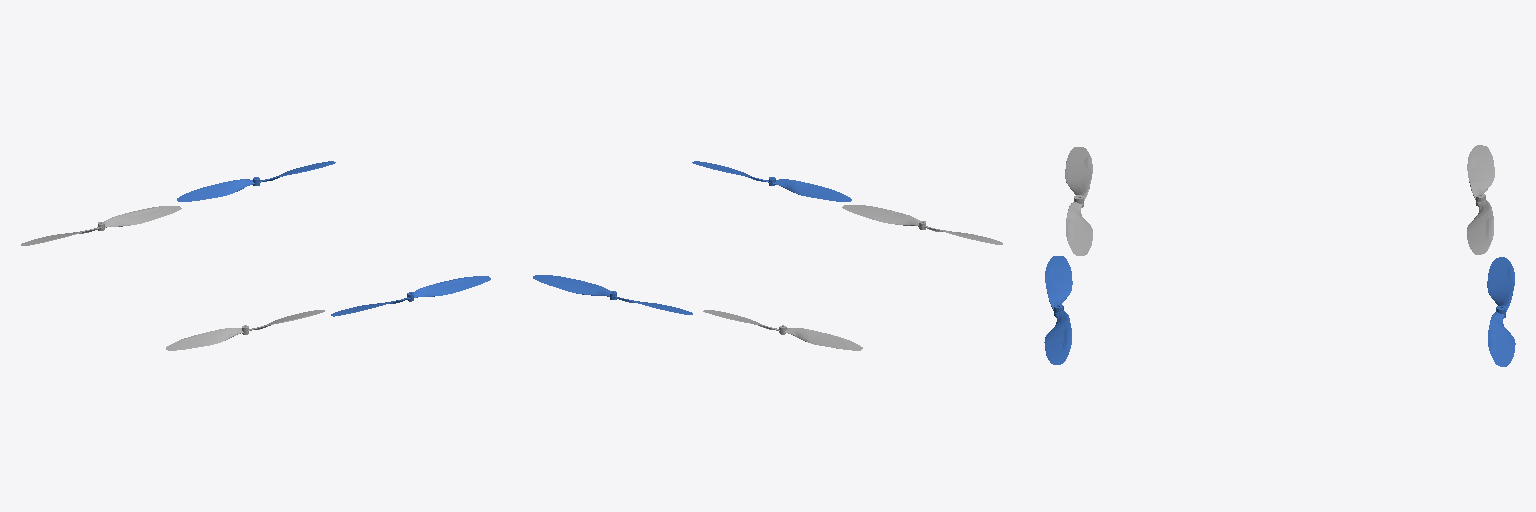
URDF robot description (iris):
<?xml version="1.0" ?>
<robot name="iris">

  <material name="grey">
    <color rgba=".7 .7 .7 1"/>
  </material>

  <material name="green">
    <color rgba=".1 .8 .1 1"/>
  </material>

  <material name="blue">
    <color rgba=".3 .5 .8 1"/>
  </material>

  <material name="red">
    <color rgba=".9 .1 .1 1"/>
  </material>

  <joint name="imu_joint" type="fixed">
    <parent link="base_link"/>
    <child link="imu_link"/>
    <origin xyz="0 0 0" rpy="0 0 0"/>
    <axis xyz="1 0 0"/>
    <limit lower="0.0" upper="0.0" effort="0.0" velocity="0.0"/>
  </joint>
  <joint name="rotor_0_joint" type="revolute">
    <parent link="base_link"/>
    <child link="rotor_0"/>
    <origin xyz="0.13  -0.22   0.023" rpy="0 0 0"/>
    <axis xyz="0 0 1"/>
    <limit lower="-1e+16" upper="1e+16" effort="0.0" velocity="0.0"/>
  </joint>
  <joint name="rotor_1_joint" type="revolute">
    <parent link="base_link"/>
    <child link="rotor_1"/>
    <origin xyz="-0.13   0.2    0.023" rpy="0 0 0"/>
    <axis xyz="0 0 1"/>
    <limit lower="-1e+16" upper="1e+16" effort="0.0" velocity="0.0"/>
  </joint>
  <joint name="rotor_2_joint" type="revolute">
    <parent link="base_link"/>
    <child link="rotor_2"/>
    <origin xyz="0.13  0.22  0.023" rpy="0 0 0"/>
    <axis xyz="0 0 1"/>
    <limit lower="-1e+16" upper="1e+16" effort="0.0" velocity="0.0"/>
  </joint>
  <joint name="rotor_3_joint" type="revolute">
    <parent link="base_link"/>
    <child link="rotor_3"/>
    <origin xyz="-0.13  -0.2    0.023" rpy="0 0 0"/>
    <axis xyz="0 0 1"/>
    <limit lower="-1e+16" upper="1e+16" effort="0.0" velocity="0.0"/>
  </joint>
  <joint name="gps0_joint" type="fixed">
    <parent link="base_link"/>
    <child link="gps0__link"/>
    <origin xyz="0.1 0  0" rpy="0 0 0"/>
    <axis xyz="0 0 0"/>
    <limit lower="0" upper="0" effort="0" velocity="0"/>
  </joint>
  <link name="base_link">
    <!-- <inertial>
      <mass value="1.5"/>
      <origin xyz="0 0 0" rpy="0 0 0"/>
      <inertia ixx="0.029125" ixy="0" ixz="0" iyy="0.029125" iyz="0" izz="0.055225"/>
    </inertial> -->
    <collision name="base_link_inertia_collision">
      <origin xyz="0 0 0" rpy="0 0 0"/>
      <geometry>
        <box size="0.47 0.47 0.11"/>
      </geometry>
    </collision>
    <visual>
      <origin xyz="0 0 0" rpy="0 0 0"/>
      <geometry>
        <mesh filename="package://fss_px4_sim/model/meshes/iris.stl" scale="1 1 1"/>
      </geometry>
      <material name="blue"/> <!-- Added by Peixuan Shu -->
    </visual>
  </link>
  <link name="imu_link">
    <inertial>
      <mass value="0.015"/>
      <origin xyz="0 0 0" rpy="0 0 0"/>
      <inertia ixx="1e-05" ixy="0" ixz="0" iyy="1e-05" iyz="0" izz="1e-05"/>
    </inertial>
  </link>
  <link name="rotor_0">
    <inertial>
      <mass value="0.005"/>
      <origin xyz="0 0 0" rpy="0 0 0"/>
      <inertia ixx="9.75e-07" ixy="0" ixz="0" iyy="0.000273104" iyz="0" izz="0.000274004"/>
    </inertial>
    <collision name="rotor_0_collision">
      <origin xyz="0 0 0" rpy="0 0 0"/>
      <geometry>
        <cylinder radius="0.128" length="0.005"/>
      </geometry>
    </collision>
    <visual name="rotor_0_visual">
      <origin xyz="0 0 0" rpy="0 0 0"/>
      <geometry>
        <mesh filename="package://fss_px4_sim/model/meshes/iris_prop_ccw.stl" scale="1 1 1"/>
      </geometry>
      <material name="blue"/> <!-- Added by Peixuan Shu -->
    </visual>
  </link>
  <link name="rotor_1">
    <inertial>
      <mass value="0.005"/>
      <origin xyz="0 0 0" rpy="0 0 0"/>
      <inertia ixx="9.75e-07" ixy="0" ixz="0" iyy="0.000273104" iyz="0" izz="0.000274004"/>
    </inertial>
    <collision name="rotor_1_collision">
      <origin xyz="0 0 0" rpy="0 0 0"/>
      <geometry>
        <cylinder radius="0.128" length="0.005"/>
      </geometry>
    </collision>
    <visual>
      <origin xyz="0 0 0" rpy="0 0 0"/>
      <geometry>
        <mesh filename="package://fss_px4_sim/model/meshes/iris_prop_ccw.stl" scale="1 1 1"/>
      </geometry>
      <material name="grey"/> <!-- Added by Peixuan Shu -->
    </visual>
  </link>
  <link name="rotor_2">
    <inertial>
      <mass value="0.005"/>
      <origin xyz="0 0 0" rpy="0 0 0"/>
      <inertia ixx="9.75e-07" ixy="0" ixz="0" iyy="0.000273104" iyz="0" izz="0.000274004"/>
    </inertial>
    <collision name="rotor_2_collision">
      <origin xyz="0 0 0" rpy="0 0 0"/>
      <geometry>
        <cylinder radius="0.128" length="0.005"/>
      </geometry>
    </collision>
    <visual name="rotor_2_visual">
      <origin xyz="0 0 0" rpy="0 0 0"/>
      <geometry>
        <mesh filename="package://fss_px4_sim/model/meshes/iris_prop_cw.stl" scale="1 1 1"/>
      </geometry>
      <material name="blue"/> <!-- Added by Peixuan Shu -->
    </visual>
  </link>
  <link name="rotor_3">
    <inertial>
      <mass value="0.005"/>
      <origin xyz="0 0 0" rpy="0 0 0"/>
      <inertia ixx="9.75e-07" ixy="0" ixz="0" iyy="0.000273104" iyz="0" izz="0.000274004"/>
    </inertial>
    <collision name="rotor_3_collision">
      <origin xyz="0 0 0" rpy="0 0 0"/>
      <geometry>
        <cylinder radius="0.128" length="0.005"/>
      </geometry>
    </collision>
    <visual name="rotor_3_visual">
      <origin xyz="0 0 0" rpy="0 0 0"/>
      <geometry>
        <mesh filename="package://fss_px4_sim/model/meshes/iris_prop_cw.stl" scale="1 1 1"/>
      </geometry>
      <material name="grey"/> <!-- Added by Peixuan Shu -->
    </visual>
  </link>
  <link name="gps0__link">
    <inertial>
      <mass value="0.015"/>
      <origin xyz="0 0 0" rpy="0 0 0"/>
      <inertia ixx="1e-05" ixy="0" ixz="0" iyy="1e-05" iyz="0" izz="1e-05"/>
    </inertial>
    <!-- <visual name="gps0__visual">
      <origin xyz="0 0 0" rpy="0 0 0"/>
      <geometry>
        <cylinder radius="0.01" length="0.002"/>
      </geometry>
    </visual> -->
  </link>
</robot>

--- Render facts (derived) ---
3 views of the same robot in one strip: view 1: azimuth 30°, elevation 25°; view 2: azimuth 150°, elevation 25°; view 3: azimuth 270°, elevation 25° (orthographic).
Model iris with 7 links and 6 joints (4 revolute, 2 fixed), rooted at base_link, posed every joint at zero.
Visible links, largest first — view 1: rotor_0, rotor_1, rotor_2, rotor_3; view 2: rotor_3, rotor_1, rotor_2, rotor_0; view 3: rotor_1, rotor_2, rotor_3, rotor_0.
Boxes of the visible links, x1=… form: rotor_0: x1=331, y1=276, x2=490, y2=316; rotor_1: x1=21, y1=206, x2=181, y2=245; rotor_2: x1=177, y1=161, x2=335, y2=201; rotor_3: x1=166, y1=310, x2=324, y2=350; rotor_3: x1=842, y1=205, x2=1002, y2=244; rotor_1: x1=703, y1=310, x2=862, y2=350; rotor_2: x1=533, y1=275, x2=692, y2=314; rotor_0: x1=692, y1=161, x2=851, y2=201; rotor_1: x1=1467, y1=145, x2=1494, y2=254; rotor_2: x1=1487, y1=257, x2=1515, y2=366; rotor_3: x1=1065, y1=147, x2=1092, y2=255; rotor_0: x1=1044, y1=256, x2=1072, y2=364.
Size in the robot's own frame: 0.5214 by 0.4686 by 0.0103 metres.
4 mesh visuals loaded from 3 distinct referenced files (2 binary STL); not drawn: 1 (reference not matched to a file when rendering).
